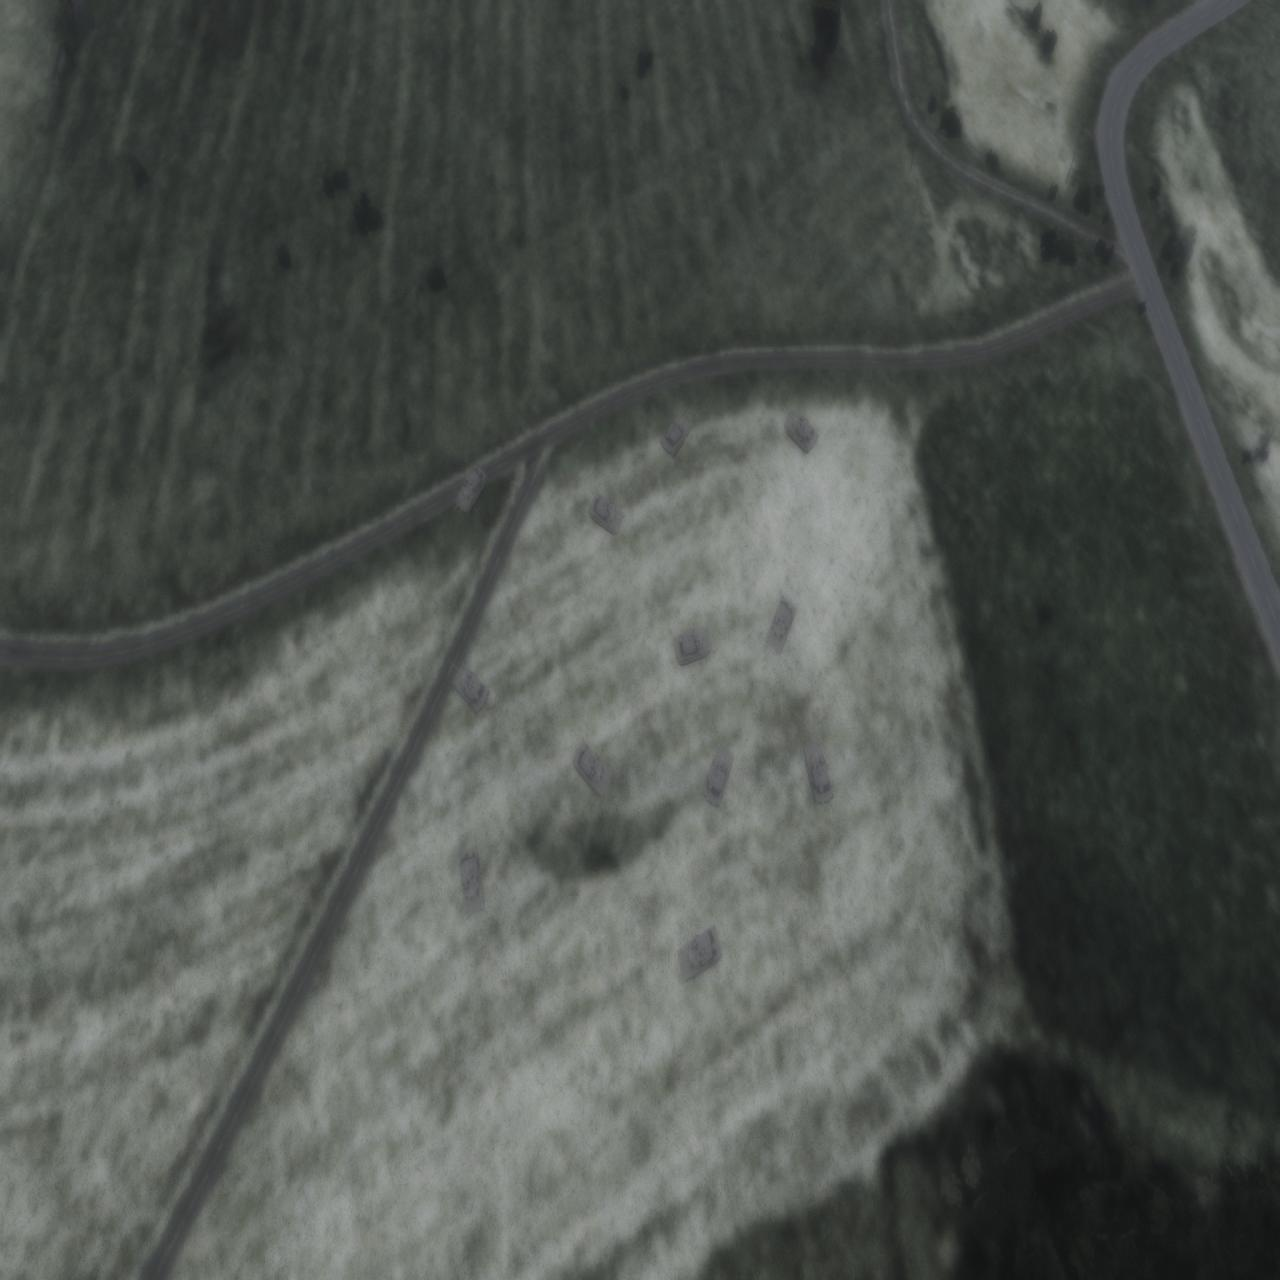MIL_Veh: (675, 924, 722, 982), (572, 737, 614, 801), (457, 846, 488, 922), (702, 743, 734, 811), (451, 662, 490, 717), (587, 491, 629, 542), (804, 747, 836, 809), (765, 598, 796, 658), (672, 628, 715, 669), (663, 410, 696, 463), (784, 409, 819, 456)
